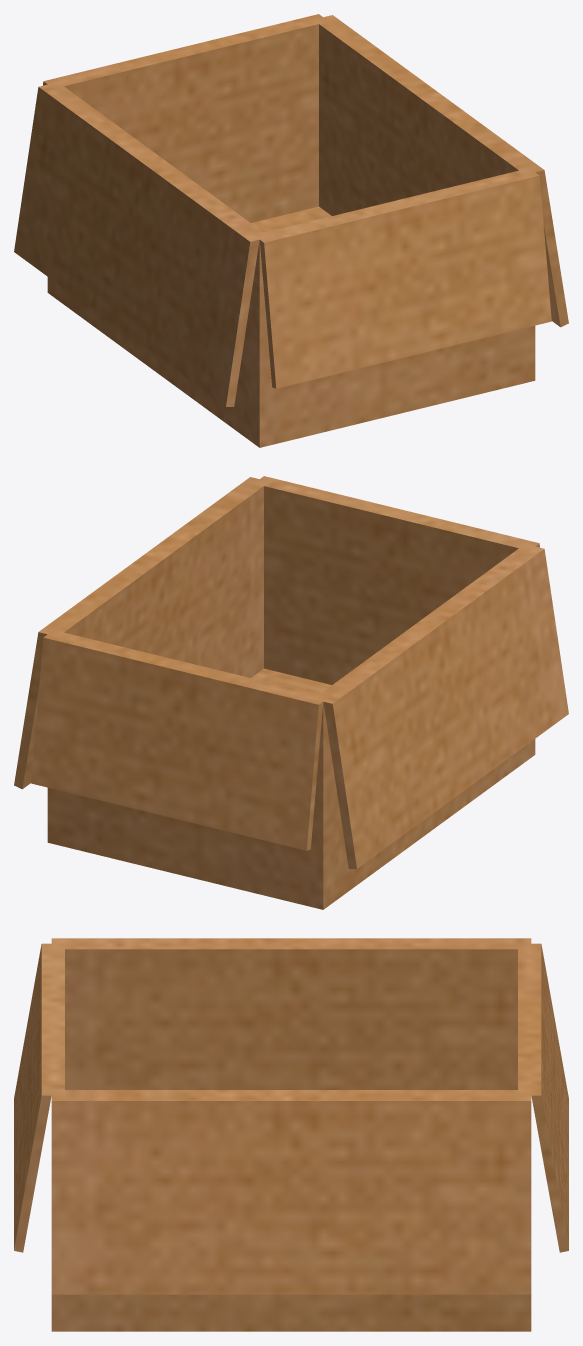
The model's file is BoxBuyer.fbx.
The picture shows the model from 3 angles, top to bottom: view 1: azimuth 30°, elevation 25°; view 2: azimuth 150°, elevation 25°; view 3: azimuth 270°, elevation 25°; orthographic projection. The views are drawn at different scales.
Visible parts, largest first — view 1: Box; view 2: Box; view 3: Box.
Part boxes in pixels (x1,y1,x2,y2): Box: (14, 14, 568, 447); Box: (14, 476, 568, 909); Box: (14, 938, 568, 1331).
Size of the model in its own units: 249 by 145 by 308.
